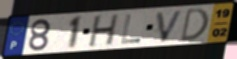1: (68, 14, 86, 51)
8: (28, 18, 52, 52)
D: (178, 7, 210, 44)
H: (86, 12, 121, 48)
L: (119, 13, 142, 45)
V: (155, 9, 186, 44)
